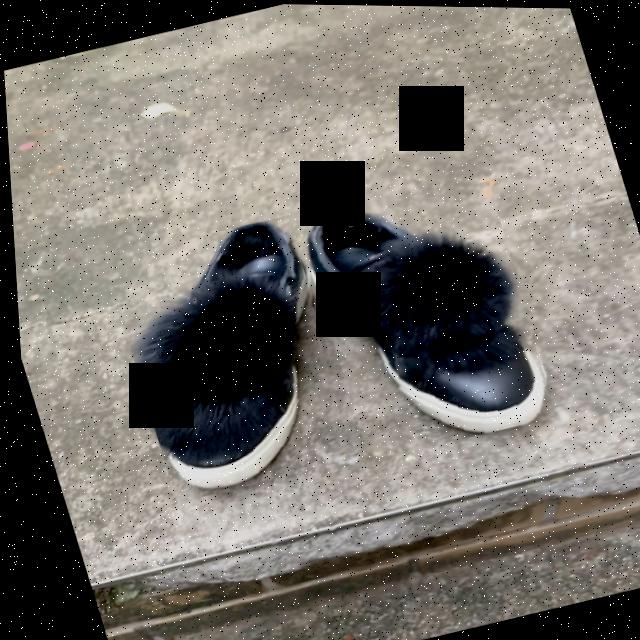shoe: (303, 207, 544, 433), (135, 221, 301, 491)
